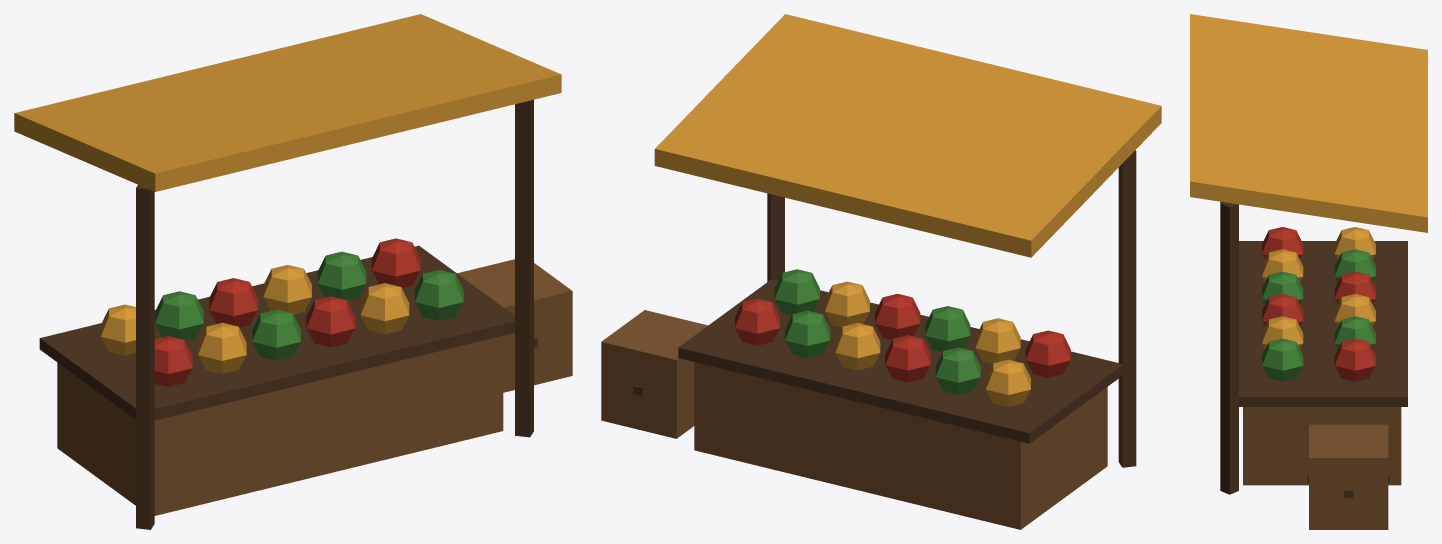
File: stall_fruit.fbx
3 views of the same model, side by side, from view 1: azimuth 30°, elevation 25°; view 2: azimuth 150°, elevation 25°; view 3: azimuth 270°, elevation 25° (orthographic). The views are drawn at different scales.
Parts seen in each view (by area): view 1: stall_fruit; view 2: stall_fruit; view 3: stall_fruit.
Part boxes in pixels (x1,y1,x2,y2): stall_fruit: (14,14,572,529); stall_fruit: (601,14,1161,529); stall_fruit: (1190,14,1427,529).
Bounding box in the file's own units: 3.61 × 2.63 × 1.8.
1 material, 1 textured.
